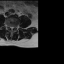CCS_normal: (11, 25, 12, 32)
LFS_severe_stenosis: (14, 25, 15, 29)
LLS_stenosis: (12, 25, 13, 31)
RFS_severe_stenosis: (8, 24, 10, 29)
RLS_normal: (10, 25, 11, 30)
